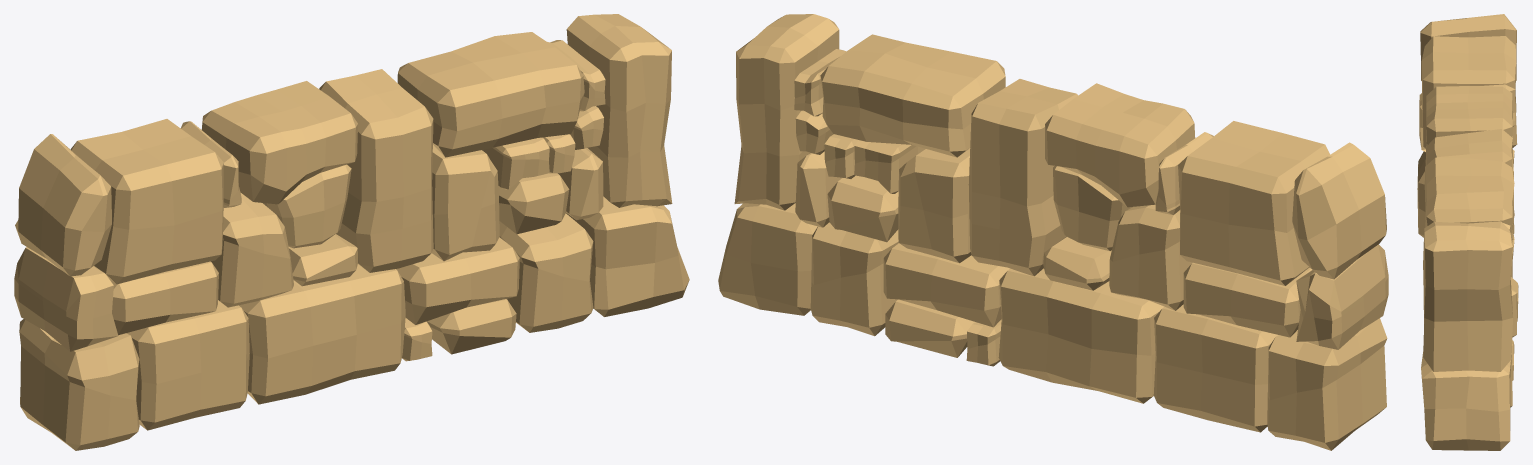
The model's file is wall.fbx.
3 renders of one model, left to right at view 1: azimuth 30°, elevation 25°; view 2: azimuth 150°, elevation 25°; view 3: azimuth 270°, elevation 25°, orthographic. The views are drawn at different scales.
Parts seen in each view (by area): view 1: Cube.024; view 2: Cube.024; view 3: Cube.024.
Part boxes in pixels (bbox=[...]): Cube.024: bbox=[14, 14, 689, 450]; Cube.024: bbox=[718, 14, 1388, 450]; Cube.024: bbox=[1417, 14, 1518, 450].
Bounding box in the file's own units: 237 × 101 × 42.43.
